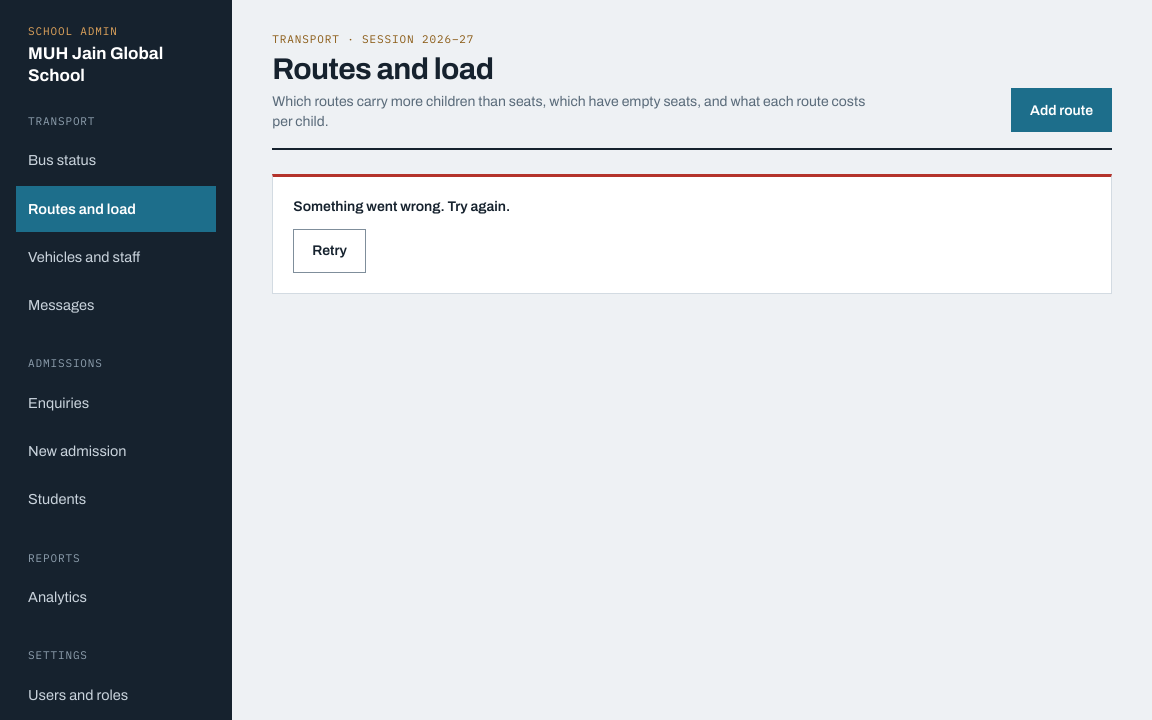
Routes and load: top of the page › shows an error with Retry, then the data
Click the button "Retry": coordinates (330, 251) [293,229,366,273]
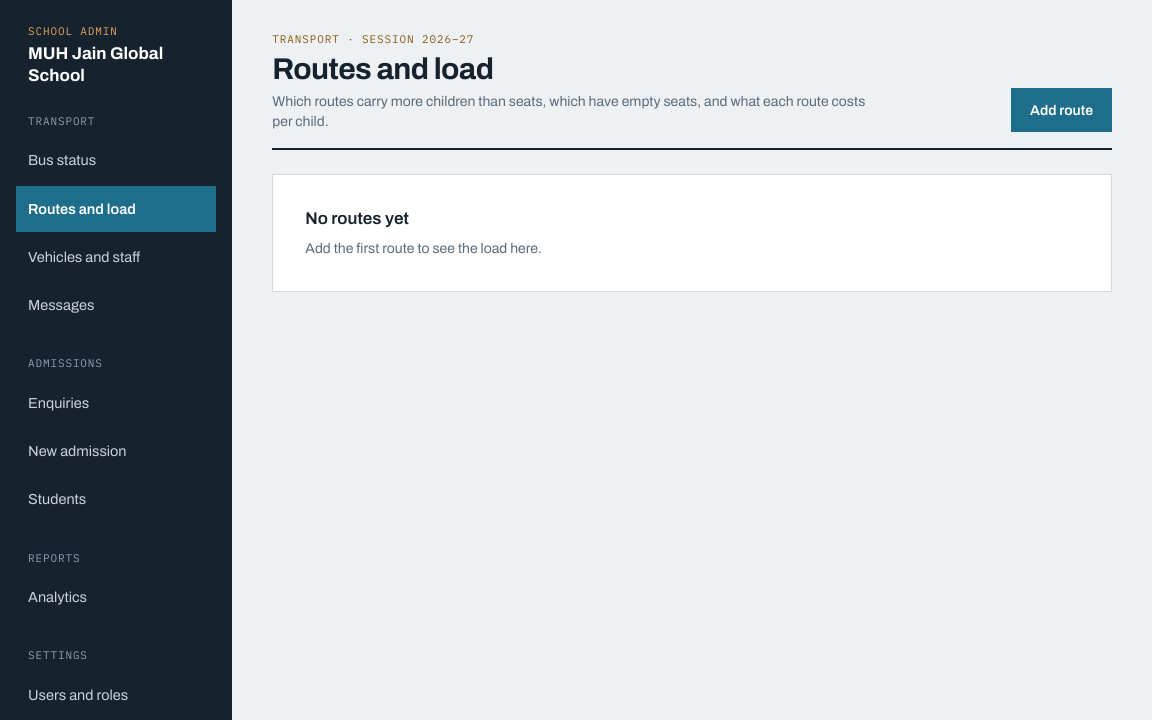
Expected: the text "No routes yet" is shown, [305,207,409,231]
